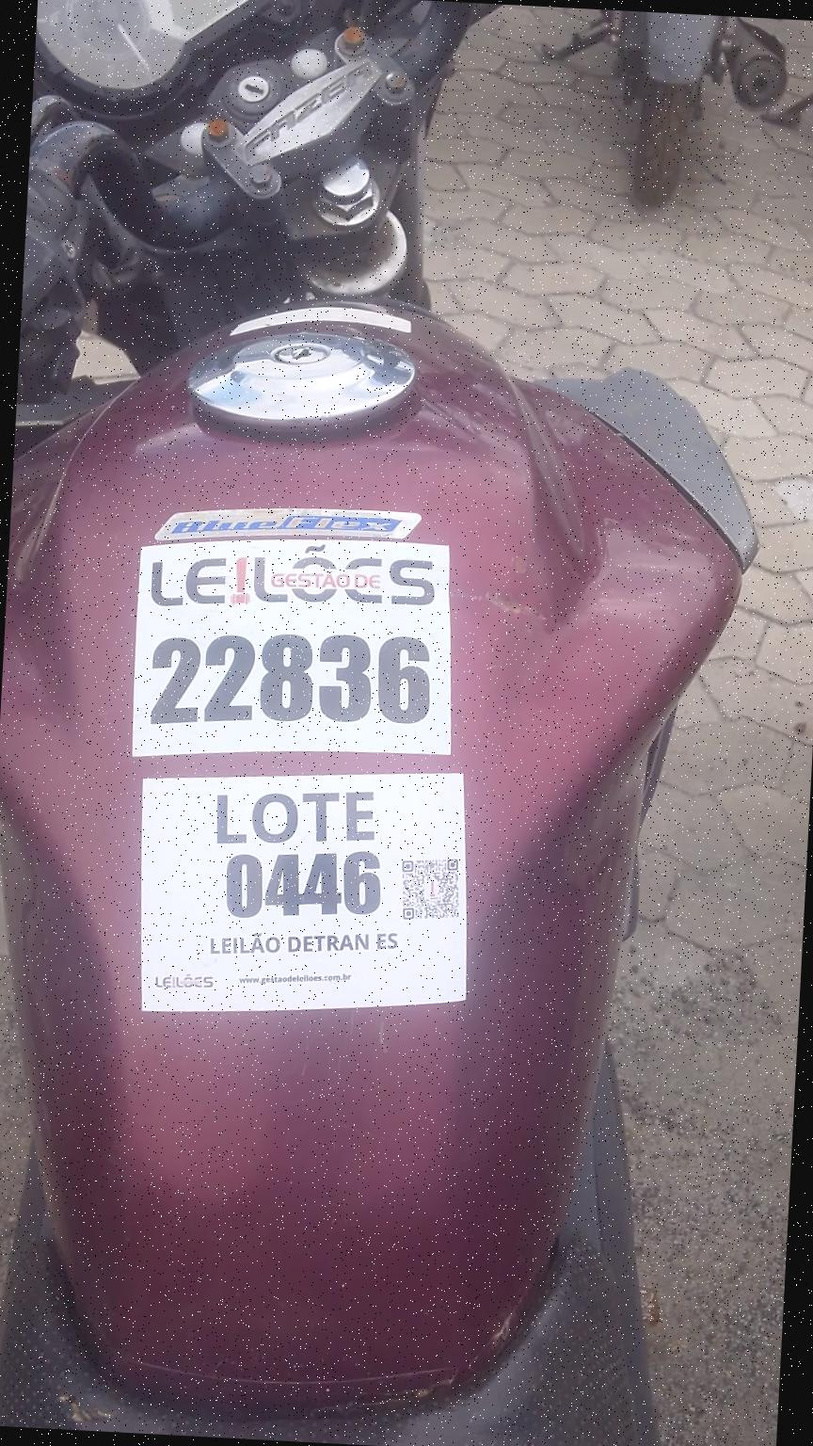numeros: (140, 616, 439, 747)
